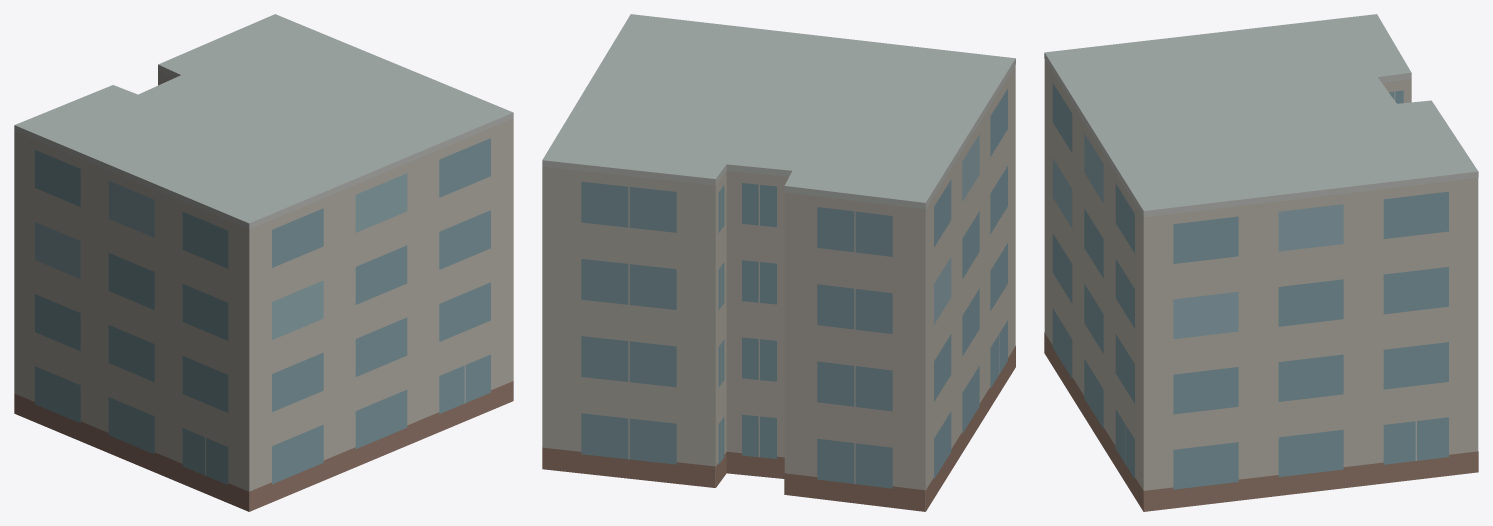
File: survey-upis-32999769.glb
3 views of the same model, side by side, from view 1: azimuth 30°, elevation 25°; view 2: azimuth 150°, elevation 25°; view 3: azimuth 270°, elevation 25° (orthographic). The views are drawn at different scales.
Parts seen in each view (by area): view 1: survey-upis-32999769.tmp; view 2: survey-upis-32999769.tmp; view 3: survey-upis-32999769.tmp.
Boxes of the visible parts, left/top/right/bottom form: survey-upis-32999769.tmp: left=14, top=14, right=513, bottom=511; survey-upis-32999769.tmp: left=542, top=14, right=1015, bottom=511; survey-upis-32999769.tmp: left=1044, top=14, right=1478, bottom=511.
Bounding box in the file's own units: 16.59 × 11.8 × 15.44.
